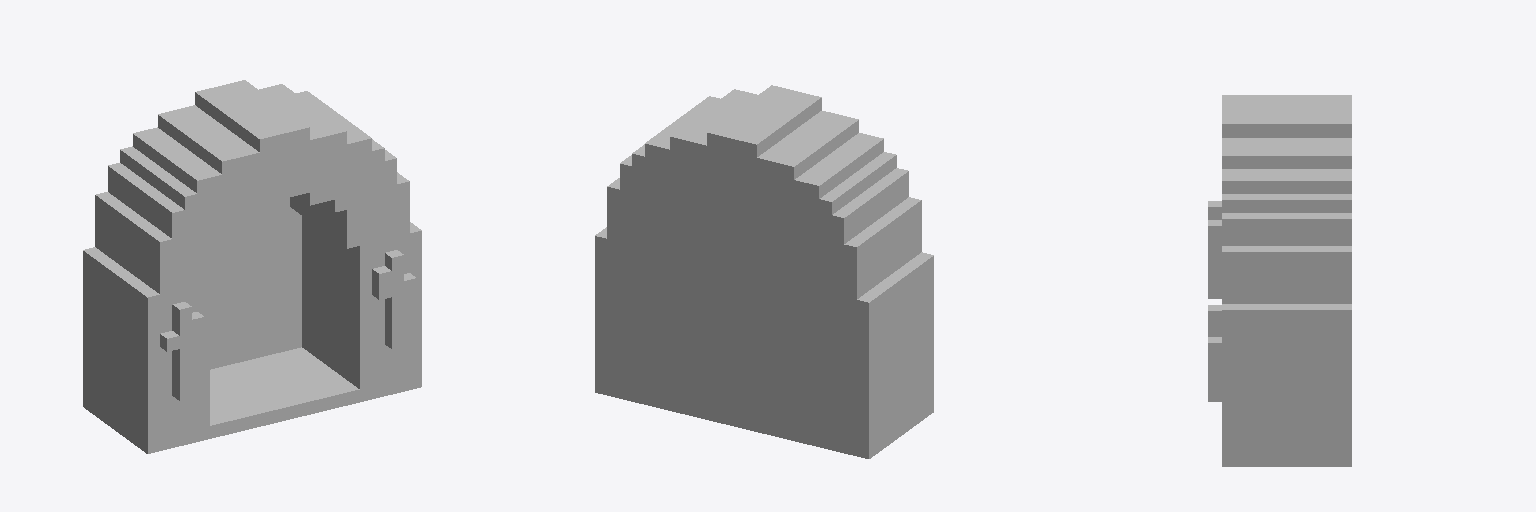
File: labirintoDoor.obj
3 views of the same model, side by side, from view 1: azimuth 30°, elevation 25°; view 2: azimuth 150°, elevation 25°; view 3: azimuth 270°, elevation 25° (orthographic).
Parts seen in each view (by area): view 1: labirintoDoor; view 2: labirintoDoor; view 3: labirintoDoor.
Part boxes in pixels (left/top/right/bottom): labirintoDoor: left=83, top=80, right=421, bottom=453; labirintoDoor: left=595, top=85, right=933, bottom=458; labirintoDoor: left=1208, top=95, right=1351, bottom=466.
Size of the model in its own units: 22 by 22 by 10.